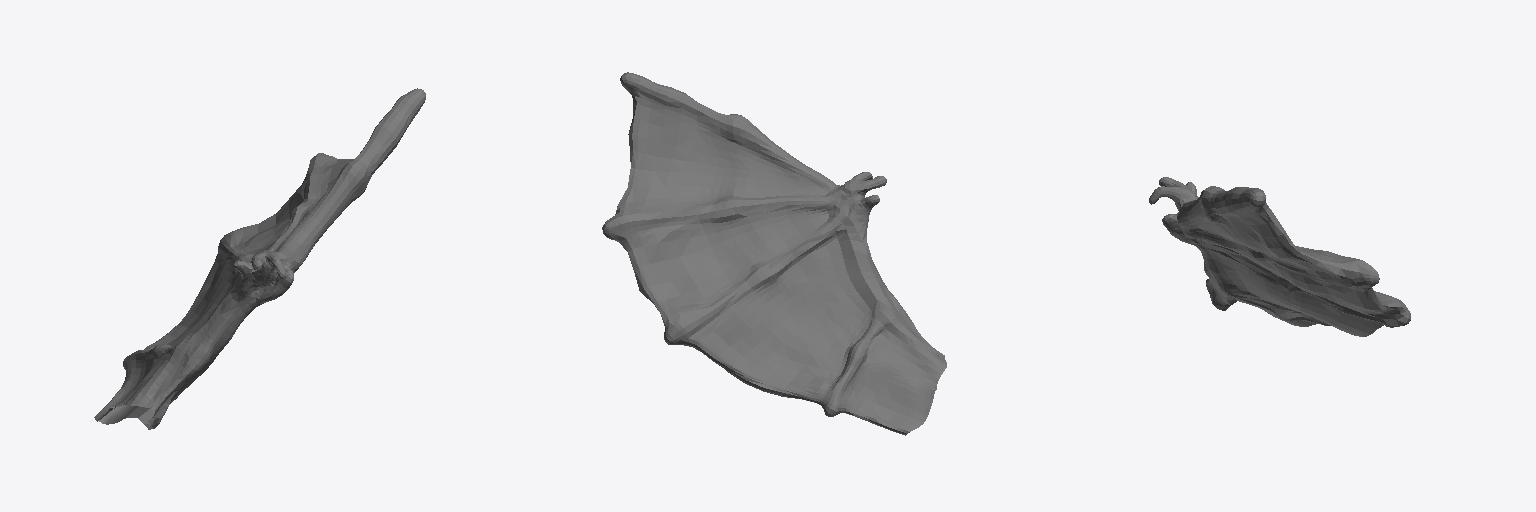
Rendered from AlaD.obj.
The picture shows the model from 3 angles: view 1: azimuth 30°, elevation 25°; view 2: azimuth 150°, elevation 25°; view 3: azimuth 270°, elevation 25°; orthographic projection.
Parts seen in each view (by area): view 1: AlaD; view 2: AlaD; view 3: AlaD.
Part boxes in pixels (x1,y1,x2,y2): AlaD: (94,88,425,429); AlaD: (602,72,946,435); AlaD: (1149,177,1410,336).
Size of the model in its own units: 8.87 by 7.42 by 6.39.